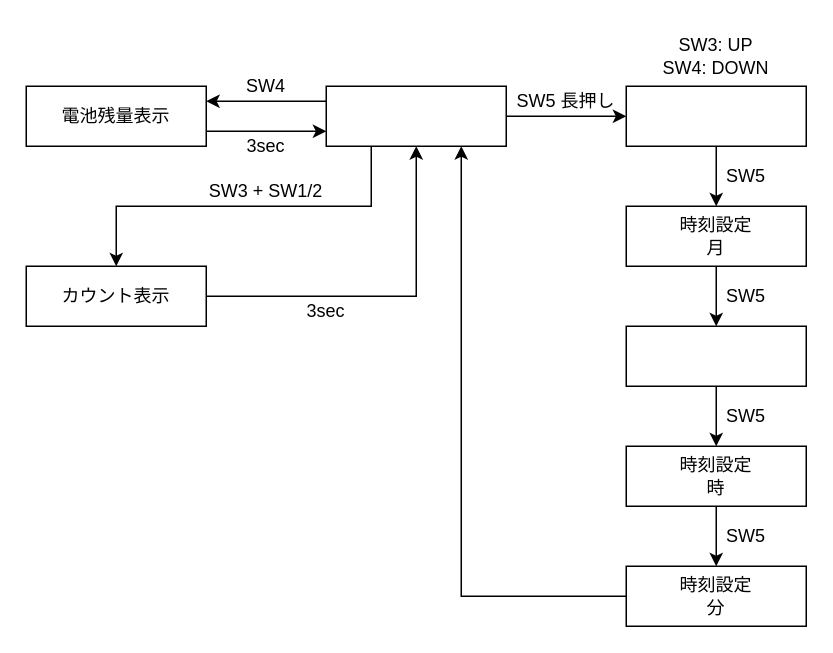
Some shapes in this 833 by 653 pixel diagram are drawn without their labels. Each missing label, with the box of its shape:
時刻設定 年: (625, 85, 806, 146)
時刻設定 日: (625, 325, 806, 386)
通常: (325, 85, 506, 146)
